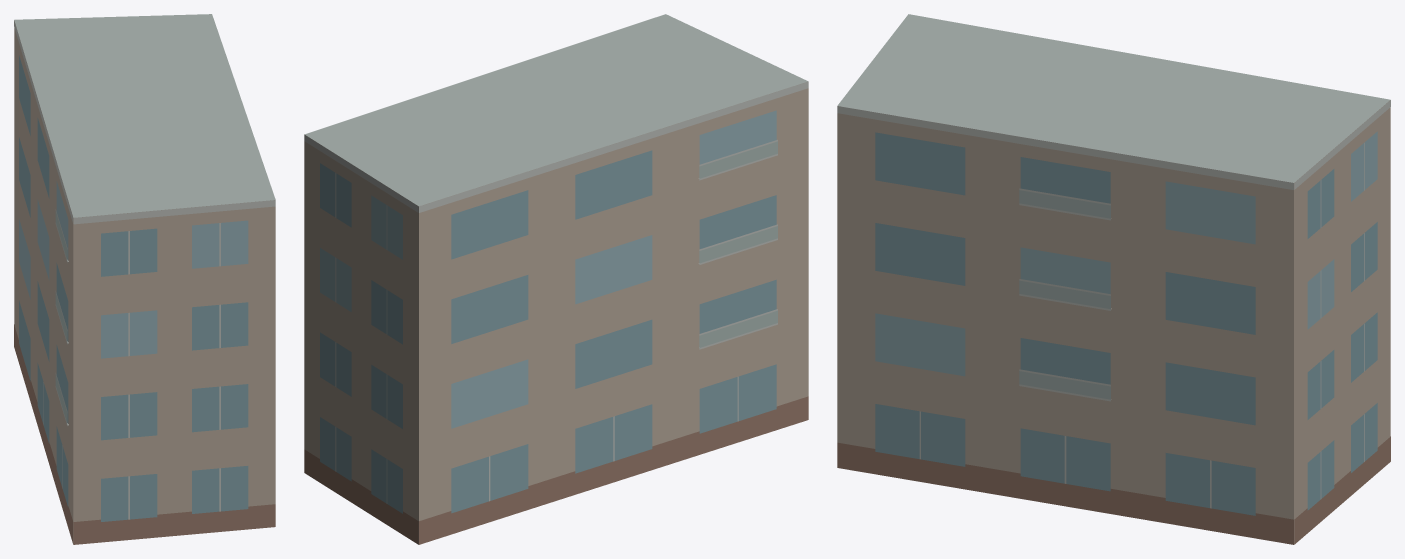
The model's file is survey-upis-32923522.glb.
3 renders of one model, left to right at view 1: azimuth 30°, elevation 25°; view 2: azimuth 150°, elevation 25°; view 3: azimuth 270°, elevation 25°, orthographic. The views are drawn at different scales.
Visible parts, largest first — view 1: survey-upis-32923522.tmp; view 2: survey-upis-32923522.tmp; view 3: survey-upis-32923522.tmp.
Part boxes in pixels (bbox=[...]): survey-upis-32923522.tmp: bbox=[14, 14, 275, 544]; survey-upis-32923522.tmp: bbox=[304, 14, 808, 544]; survey-upis-32923522.tmp: bbox=[837, 14, 1390, 544].
Bounding box in the file's own units: 12.23 × 12.2 × 16.92.
